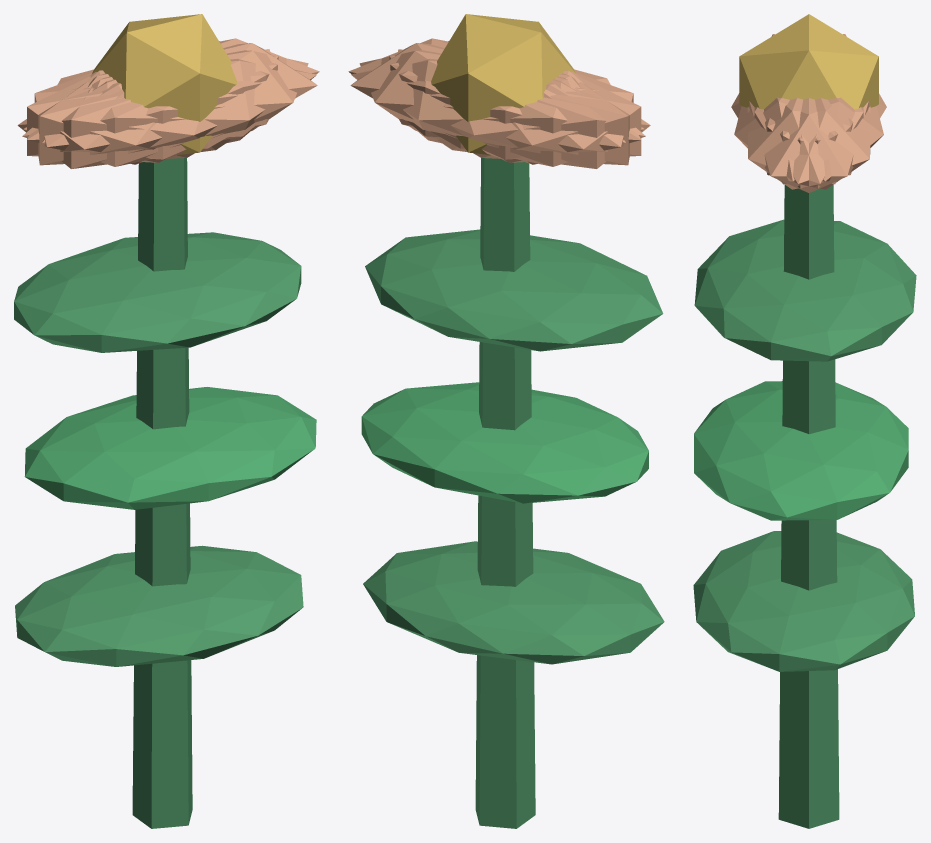
The model's file is heptapleurum-ellipticum.glb.
3 renders of one model, left to right at view 1: azimuth 30°, elevation 25°; view 2: azimuth 150°, elevation 25°; view 3: azimuth 270°, elevation 25°, orthographic.
Visible parts, largest first — view 1: leaf1, leaf2, leaf0, stem, center, petal1, petal6, petal2, petal5, petal7, petal0, petal4 (+2 smaller); view 2: leaf2, leaf0, stem, leaf1, center, petal8, petal3, petal7, petal4, petal2, petal0, petal5 (+2 smaller); view 3: leaf2, leaf1, leaf0, stem, center, petal0, petal4, petal5, petal8, petal1.
Part boxes in pixels (bbox=[...]): leaf1: bbox=[24, 387, 316, 509]; leaf2: bbox=[14, 232, 301, 352]; leaf0: bbox=[15, 545, 303, 666]; stem: bbox=[132, 158, 192, 828]; center: bbox=[92, 14, 236, 154]; petal1: bbox=[22, 58, 316, 166]; petal6: bbox=[17, 72, 230, 168]; petal2: bbox=[38, 49, 270, 165]; petal5: bbox=[42, 50, 308, 159]; petal7: bbox=[27, 55, 278, 162]; petal0: bbox=[91, 43, 317, 148]; petal4: bbox=[23, 38, 319, 139]; leaf2: bbox=[365, 229, 663, 351]; leaf0: bbox=[363, 541, 664, 664]; stem: bbox=[475, 158, 535, 828]; leaf1: bbox=[361, 382, 648, 503]; center: bbox=[431, 14, 575, 154]; petal8: bbox=[351, 58, 645, 166]; petal3: bbox=[437, 72, 650, 168]; petal7: bbox=[398, 49, 629, 165]; petal4: bbox=[359, 50, 625, 159]; petal2: bbox=[389, 55, 641, 162]; petal0: bbox=[350, 43, 576, 149]; petal5: bbox=[348, 38, 644, 140]; leaf2: bbox=[694, 219, 916, 361]; leaf1: bbox=[694, 381, 908, 520]; leaf0: bbox=[693, 531, 914, 671]; stem: bbox=[778, 184, 839, 828]; center: bbox=[739, 14, 878, 109]; petal0: bbox=[749, 98, 868, 192]; petal4: bbox=[754, 98, 870, 189]; petal5: bbox=[747, 98, 863, 189]; petal8: bbox=[765, 97, 883, 181]; petal1: bbox=[734, 97, 853, 181].
Size of the model in its own units: 0.1475 by 0.3795 by 0.0979.
